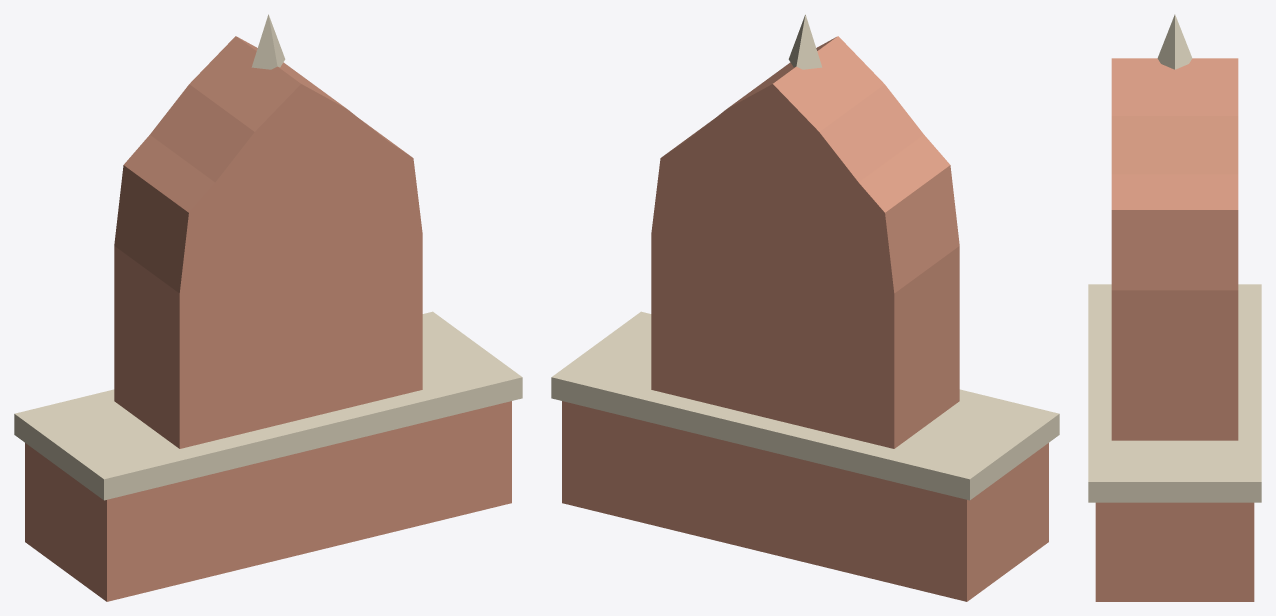
Rendered from kit_merlon.glb.
3 views of the same model, side by side, from view 1: azimuth 30°, elevation 25°; view 2: azimuth 150°, elevation 25°; view 3: azimuth 270°, elevation 25° (orthographic). The views are drawn at different scales.
Parts seen in each view (by area): view 1: kit_merlon; view 2: kit_merlon; view 3: kit_merlon.
Boxes of the visible parts, x1,y1,x2,y2 form: kit_merlon: [14, 14, 522, 601]; kit_merlon: [551, 14, 1059, 601]; kit_merlon: [1088, 14, 1261, 601].
Size of the model in its own units: 1.24 by 1.44 by 0.4601.
